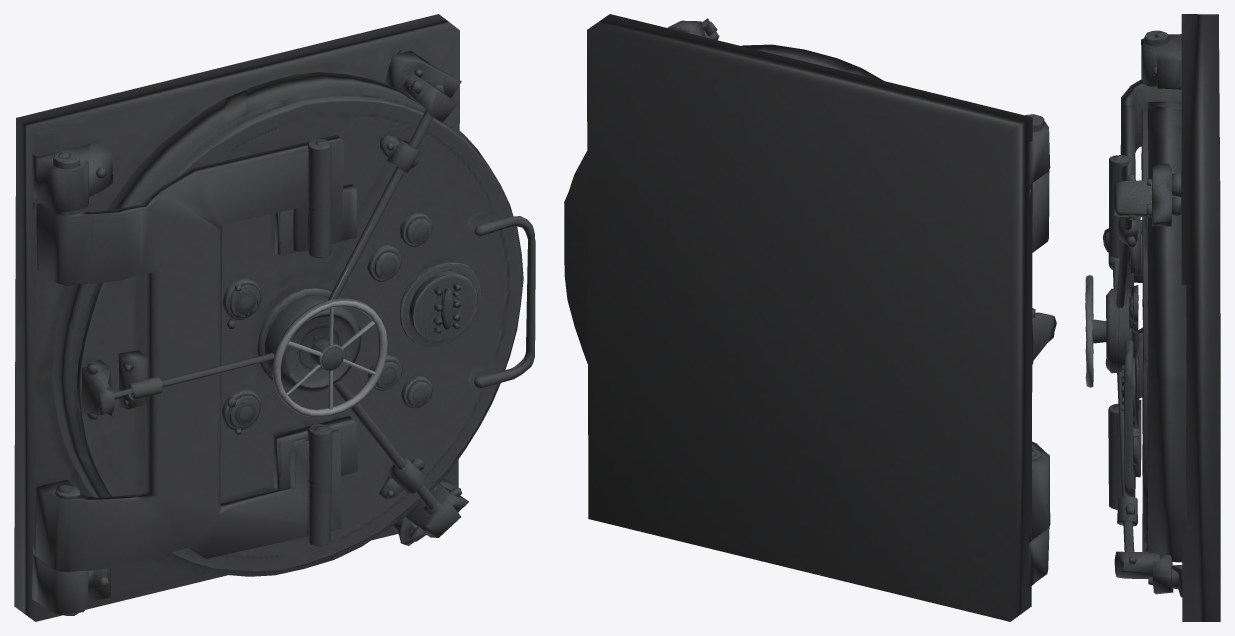
The model's file is Meshy_AI_a_bank_vault_door_0903105653_texture.glb.
3 views of the same model, side by side, from view 1: azimuth 30°, elevation 25°; view 2: azimuth 150°, elevation 25°; view 3: azimuth 270°, elevation 25° (orthographic). The views are drawn at different scales.
Parts seen in each view (by area): view 1: mesh_node; view 2: mesh_node; view 3: mesh_node.
Boxes of the visible parts, x1,y1,x2,y2 form: mesh_node: (14, 14, 535, 621); mesh_node: (564, 14, 1056, 621); mesh_node: (1085, 14, 1220, 621).
Size of the model in its own units: 1 by 1 by 0.2871.
Materials: 1 (1 with a texture image).
